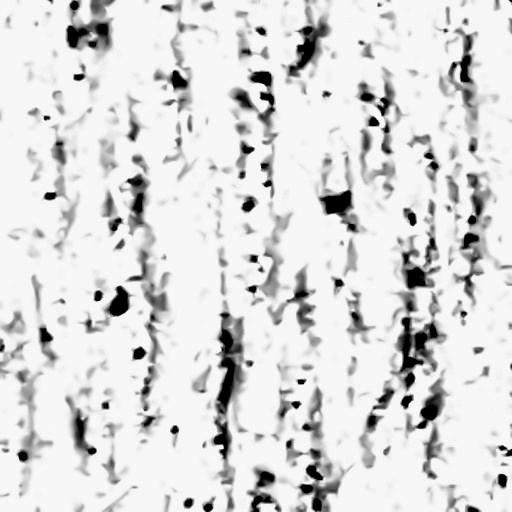egg: (324, 190, 349, 213), (109, 287, 128, 315), (312, 487, 328, 511), (460, 54, 470, 81), (251, 71, 270, 85), (306, 465, 322, 479), (421, 406, 436, 419), (68, 26, 77, 46), (173, 70, 185, 85), (134, 347, 145, 359), (405, 357, 417, 366)
